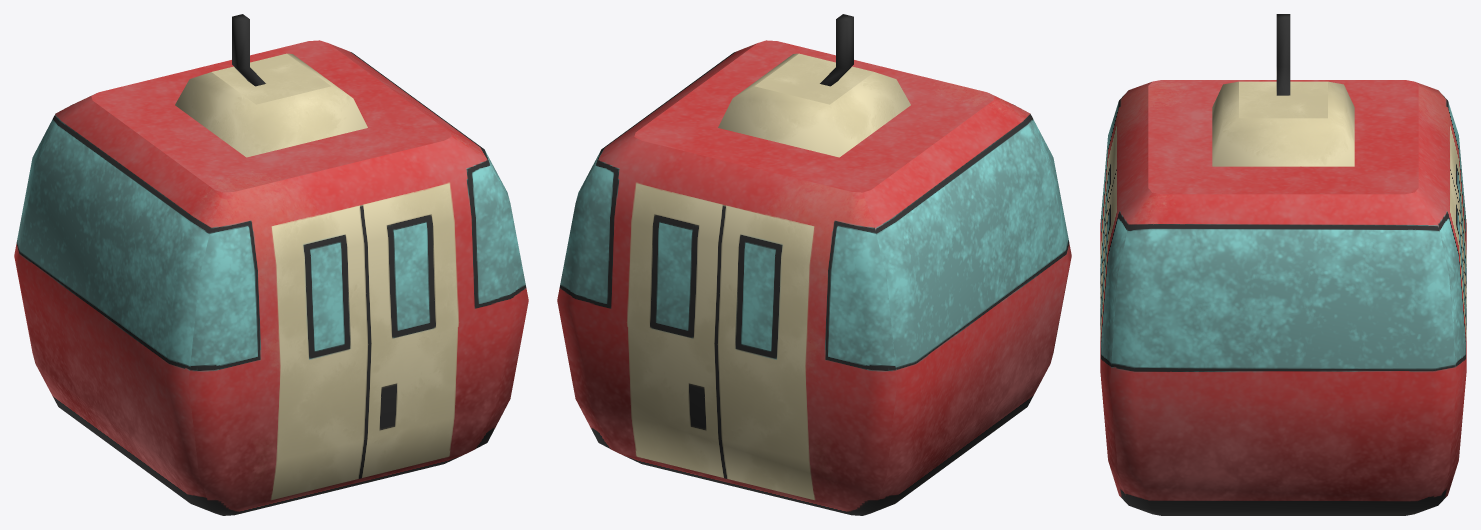
Rendered from Carpet.fbx.
3 renders of one model, left to right at view 1: azimuth 30°, elevation 25°; view 2: azimuth 150°, elevation 25°; view 3: azimuth 270°, elevation 25°, orthographic.
Visible parts, largest first — view 1: Carpet; view 2: Carpet; view 3: Carpet.
Boxes of the visible parts, <box> form: Carpet: <box>14,14,528,515</box>; Carpet: <box>557,14,1071,515</box>; Carpet: <box>1100,14,1466,515</box>.
Size of the model in its own units: 3.74 by 4.29 by 3.33.
1 material, 1 textured.
